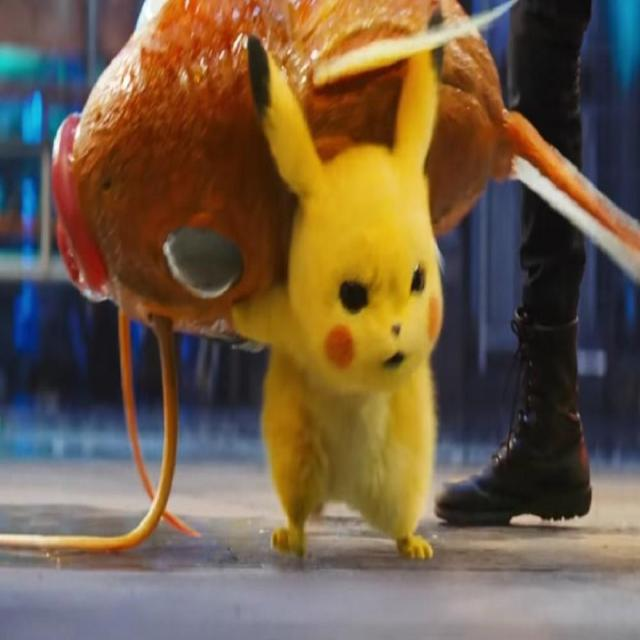pikachu: (234, 10, 445, 558)
